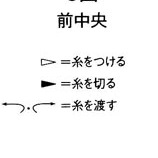enseble_chain: (0, 98, 26, 116), (33, 96, 57, 115), (59, 53, 83, 70), (59, 75, 82, 92), (72, 11, 93, 29), (87, 13, 109, 30), (40, 56, 57, 68), (57, 13, 66, 30), (64, 13, 73, 29), (83, 54, 94, 67), (93, 76, 102, 91)
